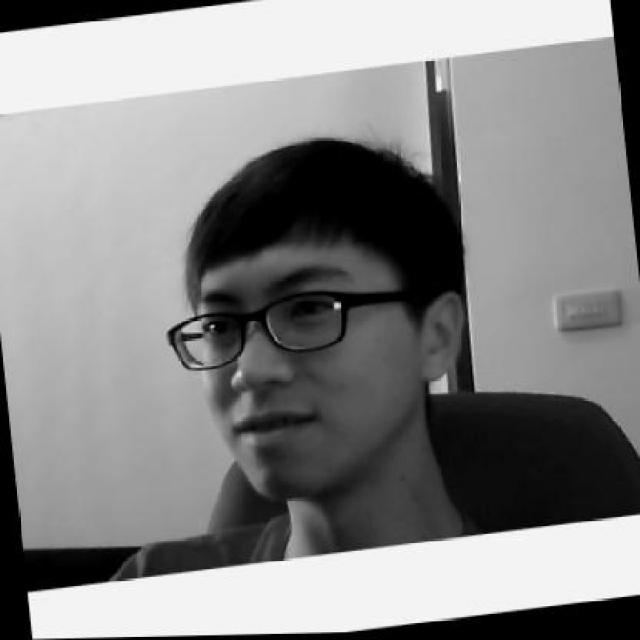attentif: (146, 120, 479, 514)
